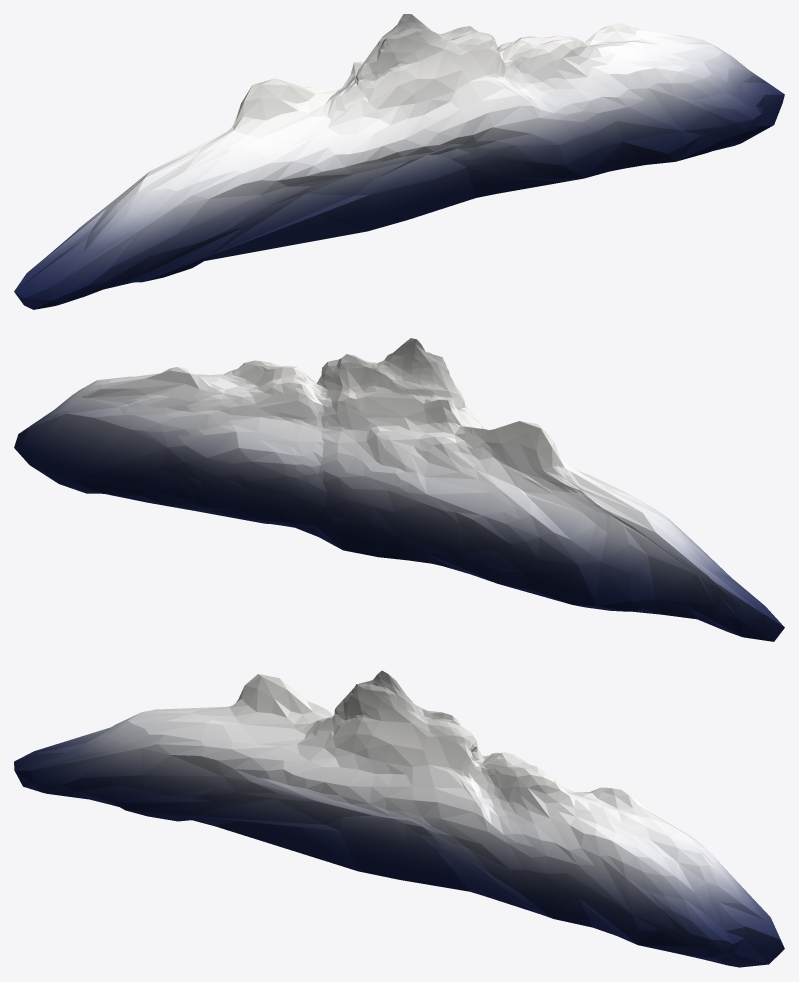
File: Island Impostor.fbx
3 renders of one model, top to bottom at view 1: azimuth 30°, elevation 25°; view 2: azimuth 150°, elevation 25°; view 3: azimuth 330°, elevation 25°, orthographic.
Visible parts, largest first — view 1: Island Impostor; view 2: Island Impostor; view 3: Island Impostor.
Part boxes in pixels (box(x1,y1,x2,y2)): Island Impostor: box(14, 14, 784, 309); Island Impostor: box(14, 338, 784, 641); Island Impostor: box(14, 670, 784, 967).
Bounding box in the file's own units: 225 × 62.37 × 23.23.
